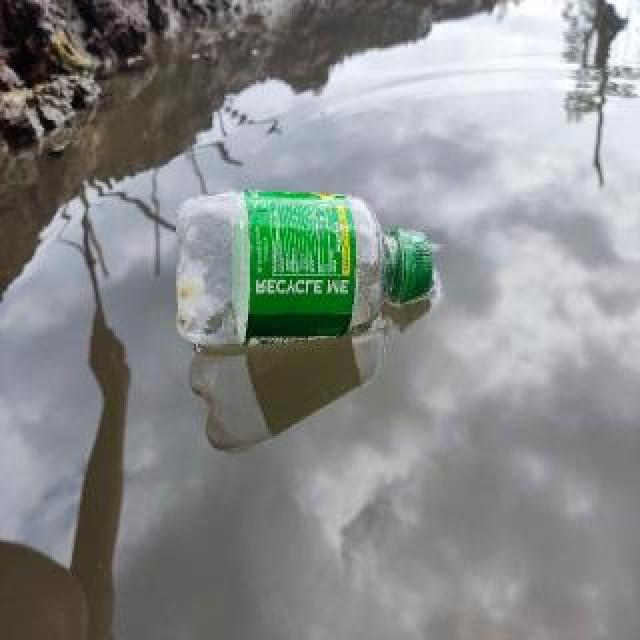Bottle: (162, 182, 444, 348)
